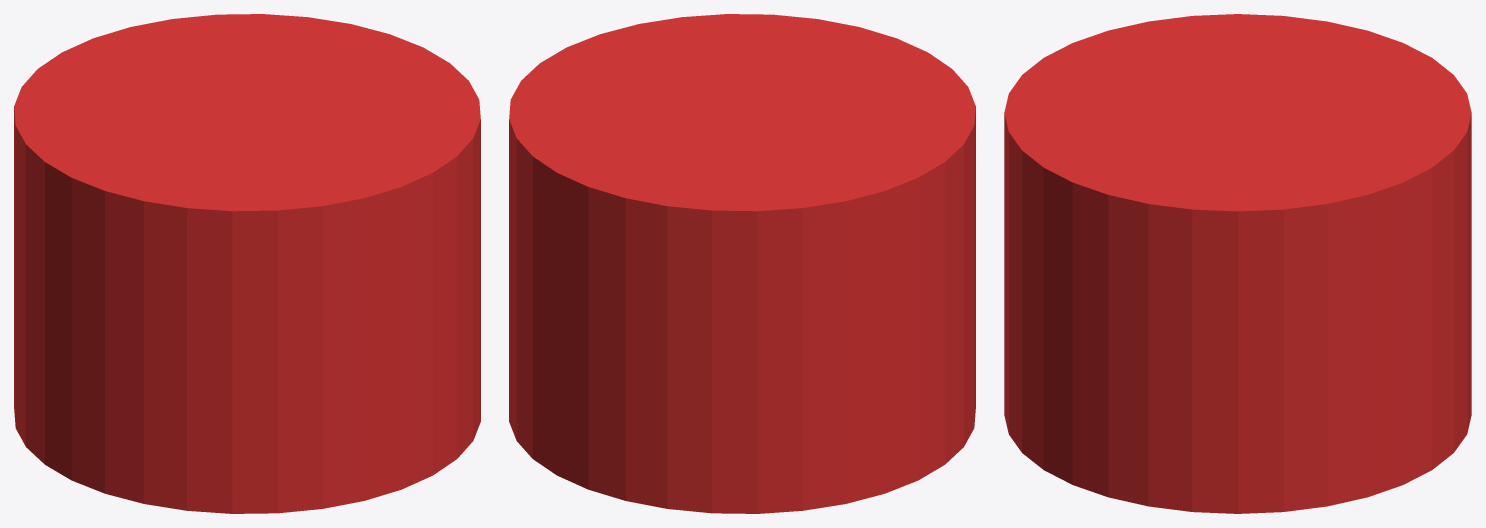
Rendered from column.fbx.
The picture shows the model from 3 angles, left to right: view 1: azimuth 30°, elevation 25°; view 2: azimuth 150°, elevation 25°; view 3: azimuth 270°, elevation 25°; orthographic projection.
Visible parts, largest first — view 1: Цилиндр; view 2: Цилиндр; view 3: Цилиндр.
Boxes of the visible parts, <box> form: Цилиндр: <box>14,14,480,513</box>; Цилиндр: <box>509,14,975,513</box>; Цилиндр: <box>1004,14,1471,513</box>.
Size of the model in its own units: 0.14 by 0.1 by 0.14.
